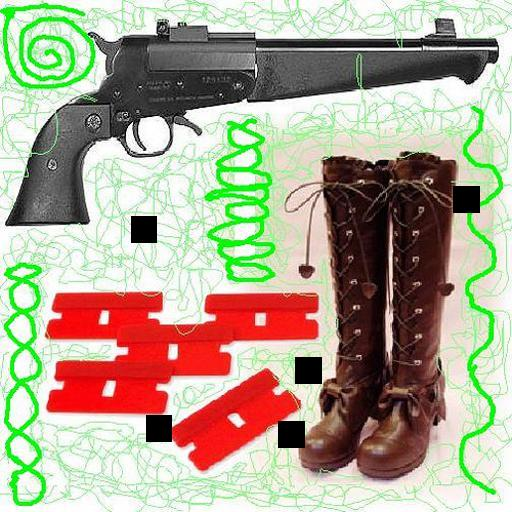Handgun: (2, 16, 498, 223)
